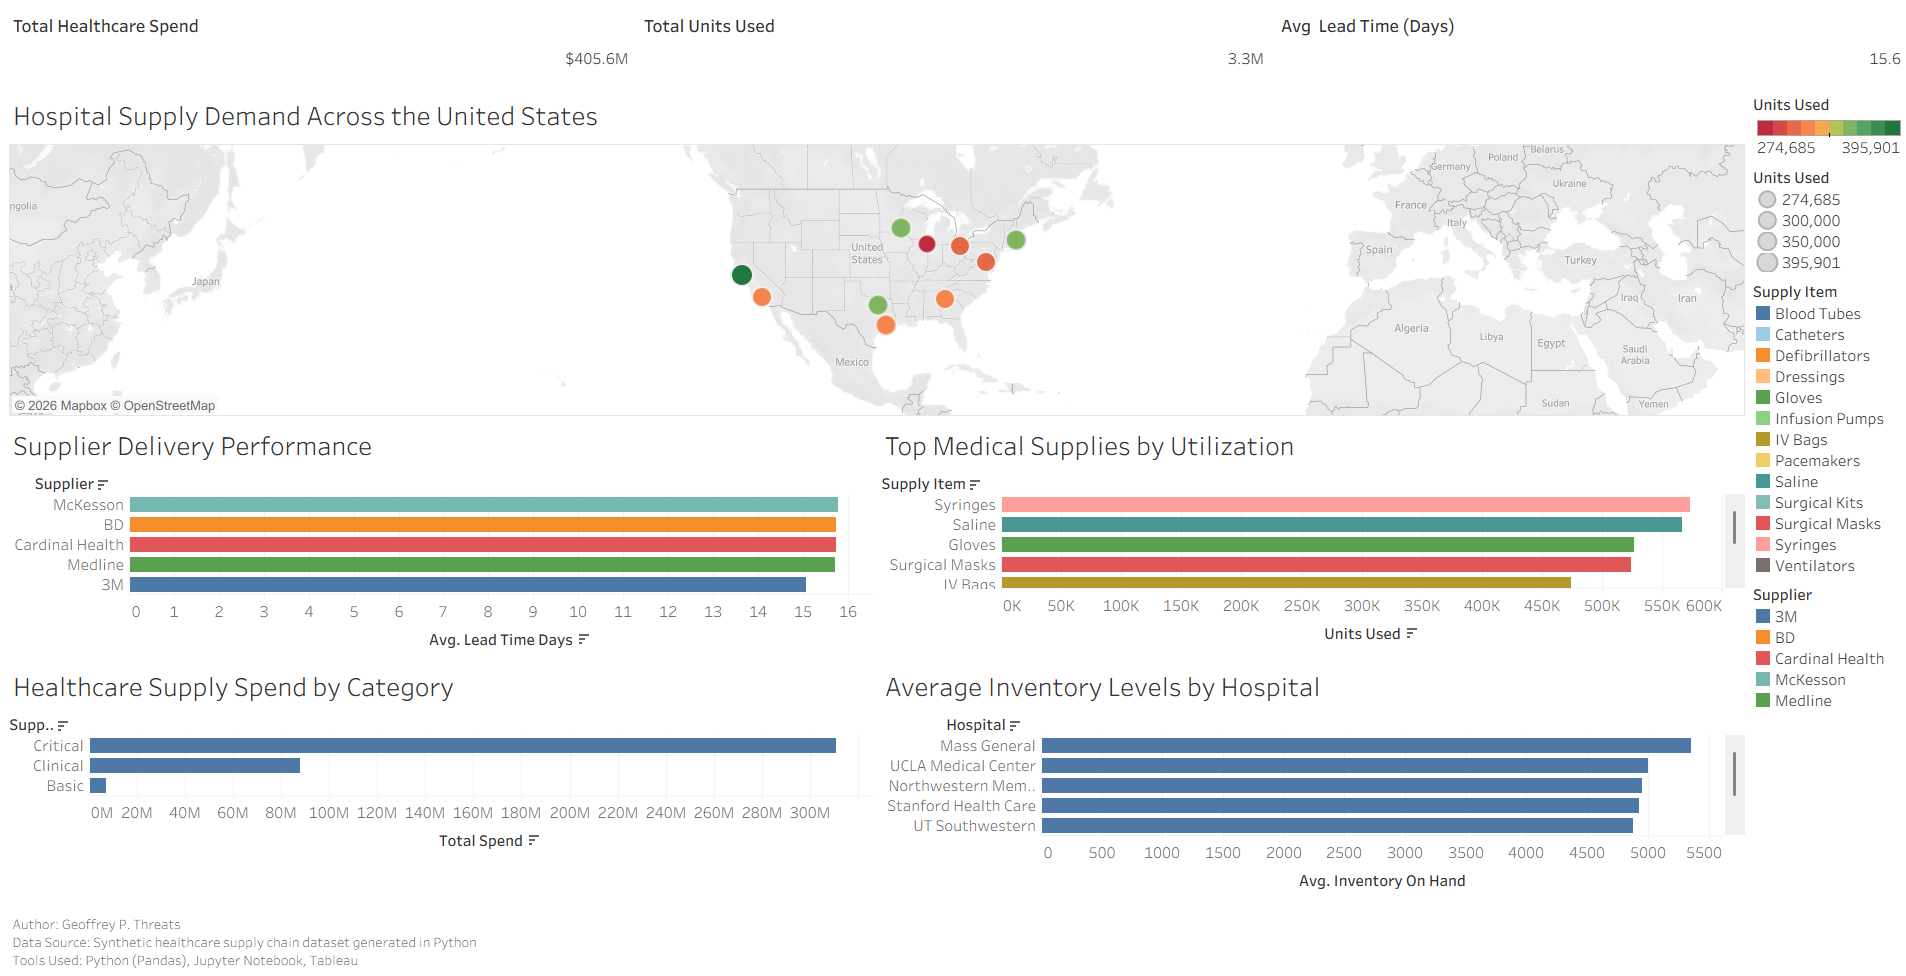

What the dashboard file says about the page in this screenshot:
{"tool":"tableau","page":{"name":"Healthcare Supply Chain Dashboard","canvas":[1000,1000],"units":"permille","ordinal":0},"visuals":[{"type":"worksheet","title":"Total Healthcare Spend","mark":"Automatic","box":[4.2,9.8,328.9,85.5]},{"type":"worksheet","title":"Total Units Used","mark":"Automatic","box":[333.1,9.8,331.3,83]},{"type":"worksheet","title":"Average Lead Time (Days)","mark":"Automatic","box":[664.4,9.8,331.3,85.5]},{"type":"worksheet","title":"Hospital Supply Demand Map","mark":"Circle","rows":["Latitude"],"cols":["Longitude"],"box":[4.2,95.2,906.8,330.9]},{"type":"legend","title":"Hospital Supply Demand Map","param":"[federated.0jxx6l003g5zx51cgm67j16bhcp1].[sum:Units_Used:qk]","box":[911,95.2,84.8,89.1]},{"type":"legend","title":"Hospital Supply Demand Map","param":"[federated.0jxx6l003g5zx51cgm67j16bhcp1].[sum:Units_Used:qk]","box":[911,184.4,84.8,139.2]},{"type":"legend","title":"Most Consumed Medical Supplies","param":"[federated.1v1w4081uw17m216bqdos1icblu8].[none:Supply_Item:nk]","box":[911,323.6,84.8,370]},{"type":"worksheet","title":"Supplier Lead Time Performance","mark":"Automatic","rows":["Supplier"],"cols":["Lead_Time_Days"],"box":[4.2,426.1,453.3,241.8]},{"type":"worksheet","title":"Most Consumed Medical Supplies","mark":"Automatic","rows":["Supply_Item"],"cols":["Units_Used"],"box":[457.6,426.1,453.4,241.8]},{"type":"worksheet","title":"Healthcare Supply Spend by Category","mark":"Automatic","rows":["Supply_Category"],"cols":["Total_Spend"],"box":[4.2,667.9,453.3,241.8]},{"type":"worksheet","title":"Average Inventory Levels by Hospital","mark":"Automatic","rows":["Hospital"],"cols":["Inventory_On_Hand"],"box":[457.6,667.9,453.4,241.8]},{"type":"legend","title":"Supplier Lead Time Performance","param":"[federated.1nig0u41xn0vz517aslvf1ihnm0m].[none:Supplier:nk]","box":[911,693.6,84.8,164.8]},{"type":"text","box":[4.2,909.6,991.5,80.6]}]}

Visuals, with their boxes on the dashboard's canvas, which has no fixed pixel size, in thousandths of its width and height (x1, y1, x2, y2). These are canvas units, not pixel positions in the 1906x976 screenshot, which may show the page scaled, cropped or inside an application window:
"Total Healthcare Spend" worksheet: 4/10/333/95
"Total Units Used" worksheet: 333/10/664/93
"Average Lead Time (Days)" worksheet: 664/10/996/95
"Hospital Supply Demand Map" worksheet (Circle marks): 4/95/911/426
"Hospital Supply Demand Map" legend: 911/95/996/184
"Hospital Supply Demand Map" legend: 911/184/996/324
"Most Consumed Medical Supplies" legend: 911/324/996/694
"Supplier Lead Time Performance" worksheet: 4/426/458/668
"Most Consumed Medical Supplies" worksheet: 458/426/911/668
"Healthcare Supply Spend by Category" worksheet: 4/668/458/910
"Average Inventory Levels by Hospital" worksheet: 458/668/911/910
"Supplier Lead Time Performance" legend: 911/694/996/858
text: 4/910/996/990
